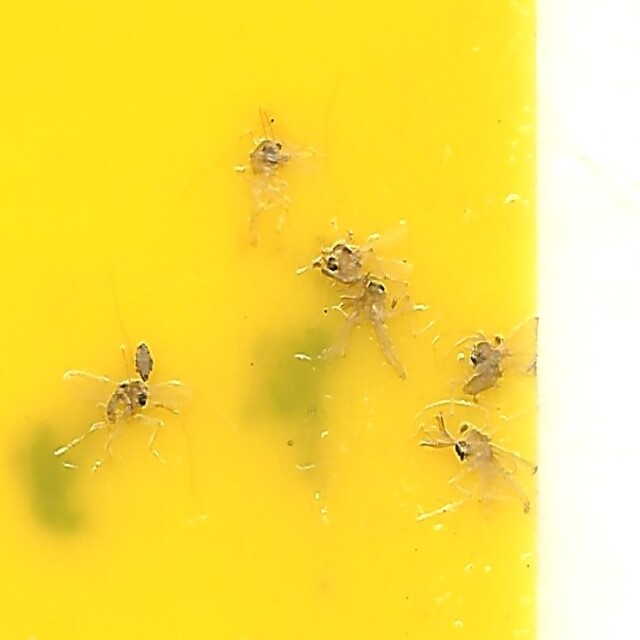Nematocera: (425, 418, 540, 519), (333, 268, 415, 386), (242, 121, 307, 230), (98, 336, 167, 438), (462, 331, 542, 401)
